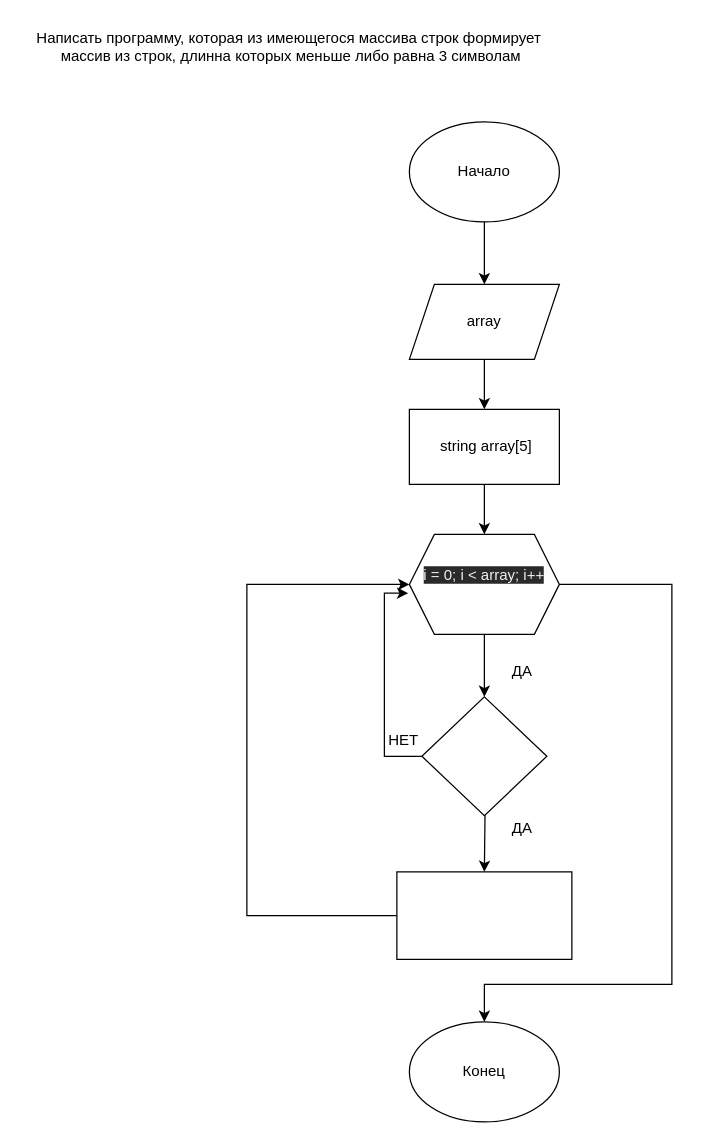
Image size: 704x1144. Some labels were removed from this diagram. The shapes that lost their labels are listed below. From the top down, each one's box as (x1, y1, x2, y2) in pixels, then its label:
(421, 696, 547, 816): array[i]<=3
(396, 871, 572, 959): Console.Write(array[i])
